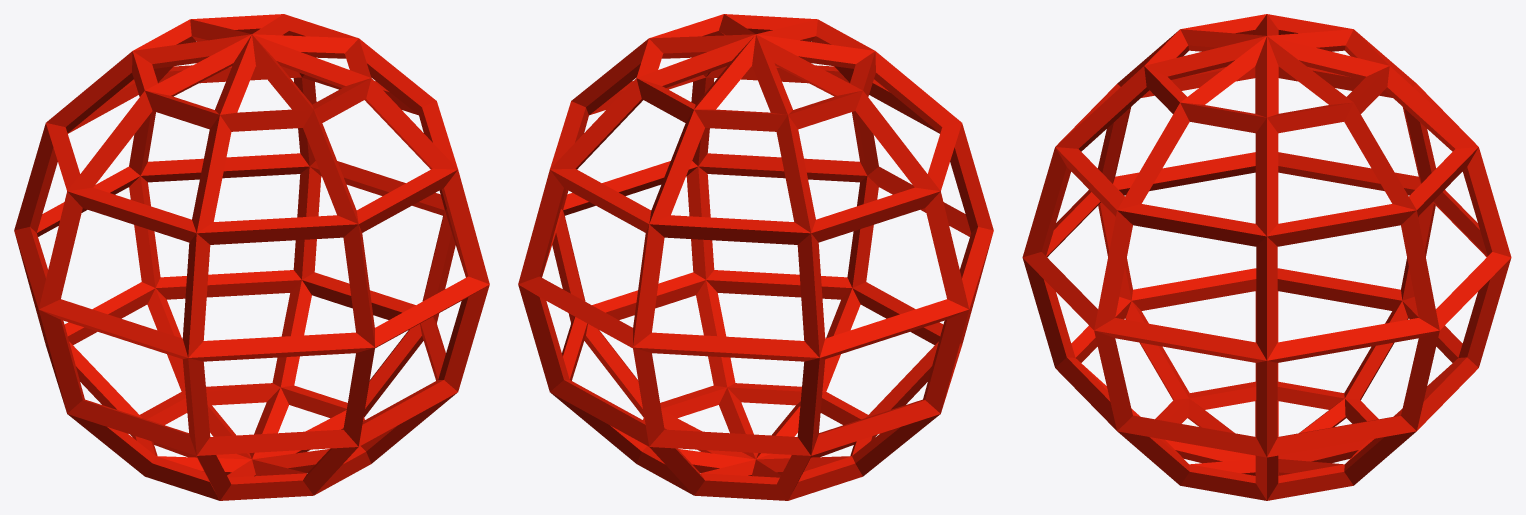
Rendered from shapes.glb.
The picture shows the model from 3 angles, left to right: view 1: azimuth 30°, elevation 25°; view 2: azimuth 150°, elevation 25°; view 3: azimuth 270°, elevation 25°; orthographic projection.
Parts seen in each view (by area): view 1: Sphere.001; view 2: Sphere.001; view 3: Sphere.001.
Boxes of the visible parts, x1,y1,x2,y2 form: Sphere.001: [14, 14, 489, 500]; Sphere.001: [518, 14, 993, 500]; Sphere.001: [1022, 14, 1511, 500].
Bounding box in the file's own units: 0.7875 × 0.7875 × 0.7875.
